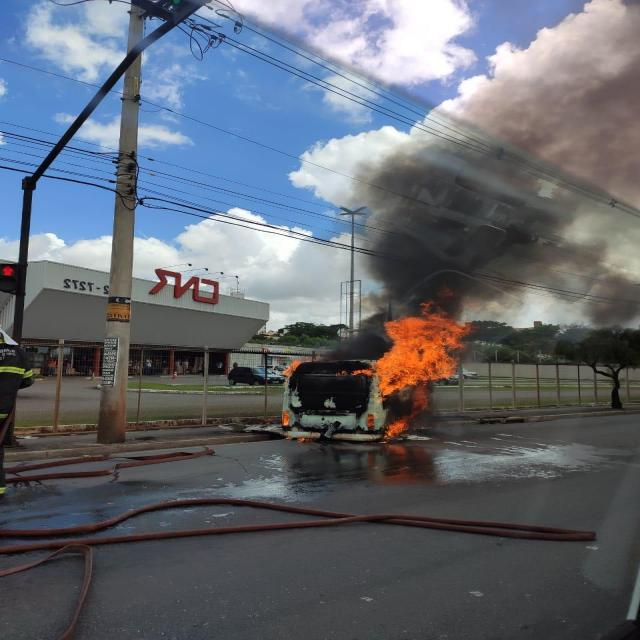fire: (360, 316, 457, 406)
